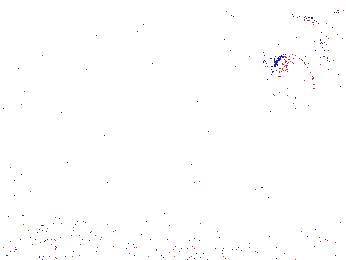moon jellyfish: (133, 6, 196, 73), (188, 8, 256, 64), (262, 54, 316, 122), (321, 8, 346, 80)
